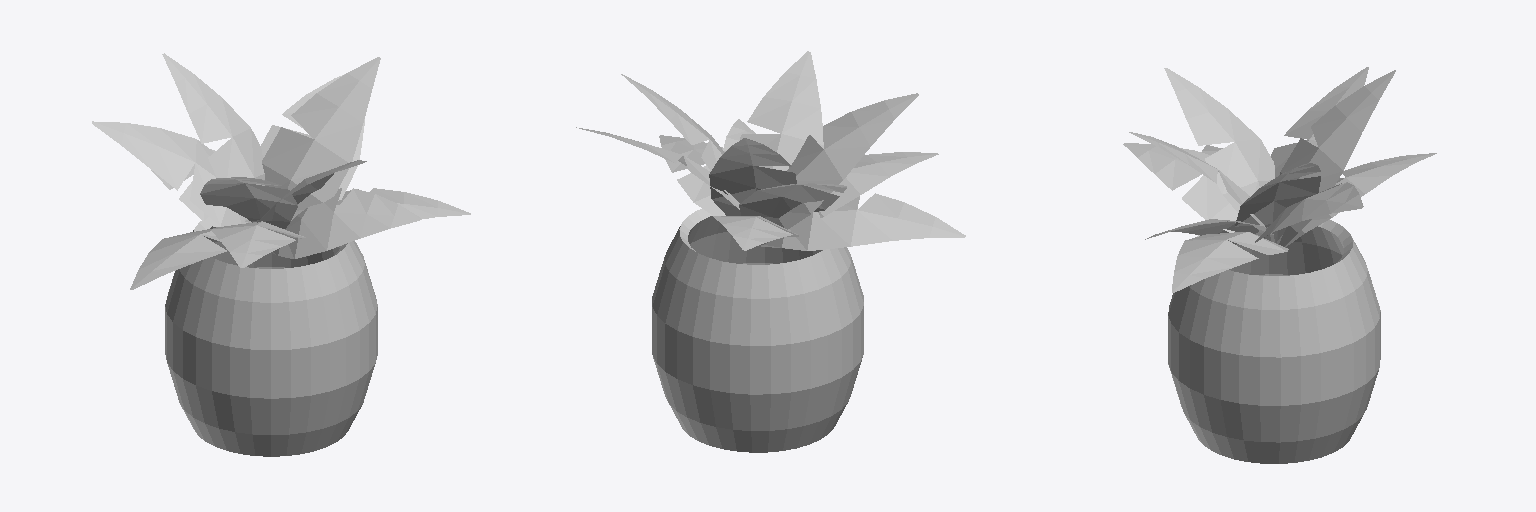
Rendered from Main_Bar_Planter_Small.obj.
3 views of the same model, side by side, from view 1: azimuth 30°, elevation 25°; view 2: azimuth 150°, elevation 25°; view 3: azimuth 270°, elevation 25° (orthographic).
Parts seen in each view (by area): view 1: Pot_small_tall_Cylinder; view 2: Pot_small_tall_Cylinder; view 3: Pot_small_tall_Cylinder.
Boxes of the visible parts, <box> form: Pot_small_tall_Cylinder: <box>92,53,470,456</box>; Pot_small_tall_Cylinder: <box>576,51,965,452</box>; Pot_small_tall_Cylinder: <box>1123,67,1436,463</box>.
Bounding box in the file's own units: 60.05 × 59.82 × 50.53.